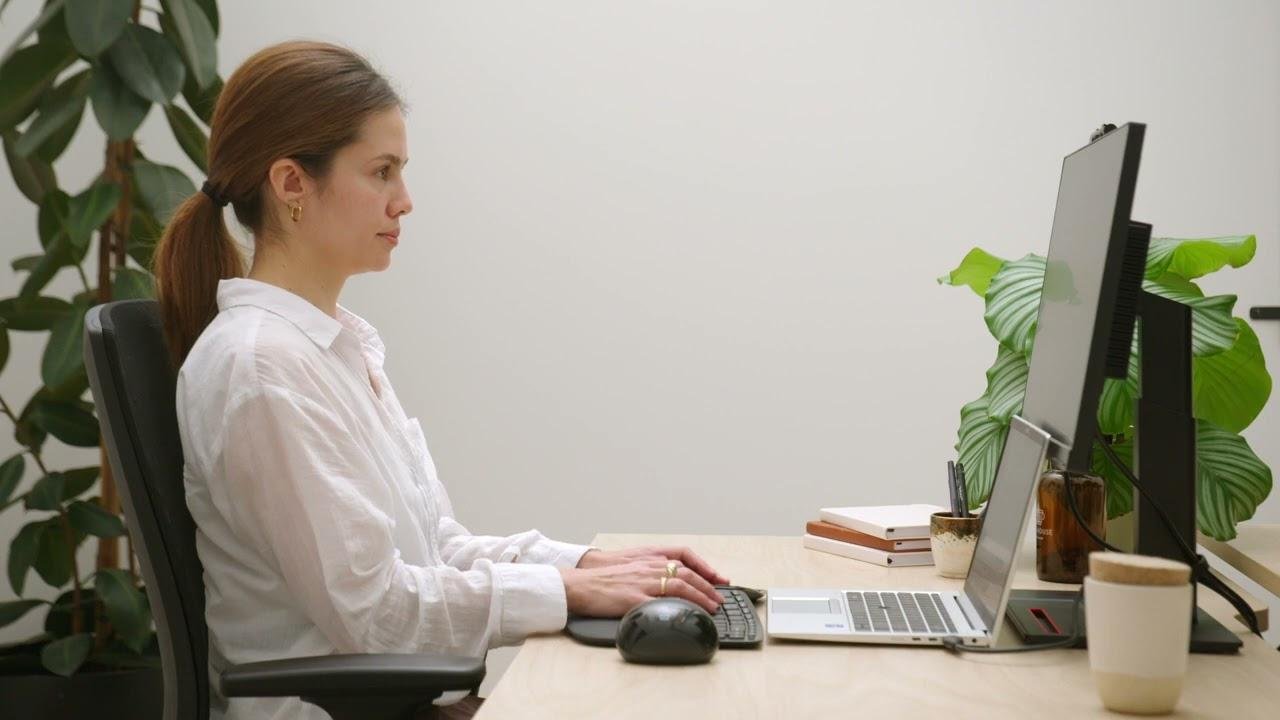Good Sitting Posture: (150, 37, 732, 716)
